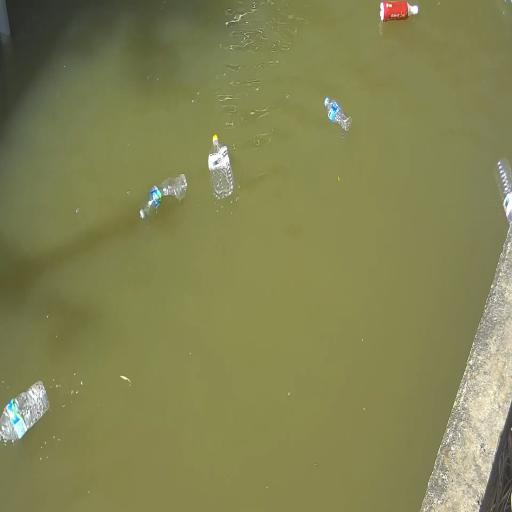plastic: (0, 382, 49, 442), (140, 174, 187, 219), (208, 135, 234, 202), (325, 98, 351, 136), (496, 159, 511, 223), (380, 1, 418, 22)
